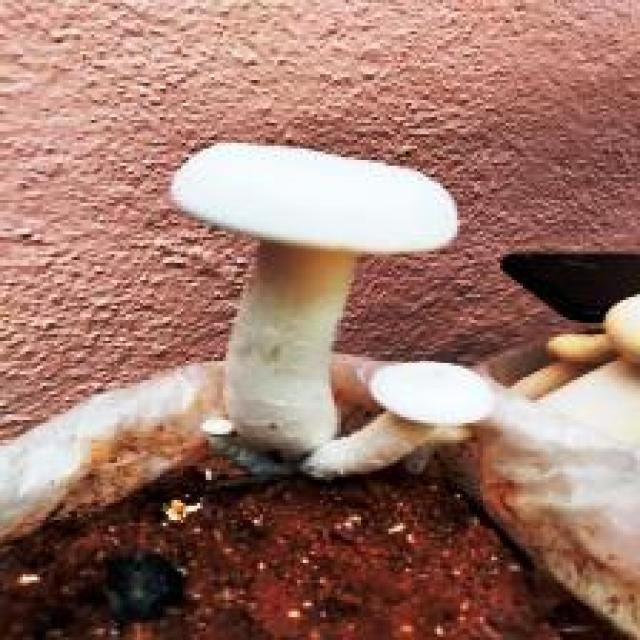field-mushroom: (166, 137, 460, 460)
